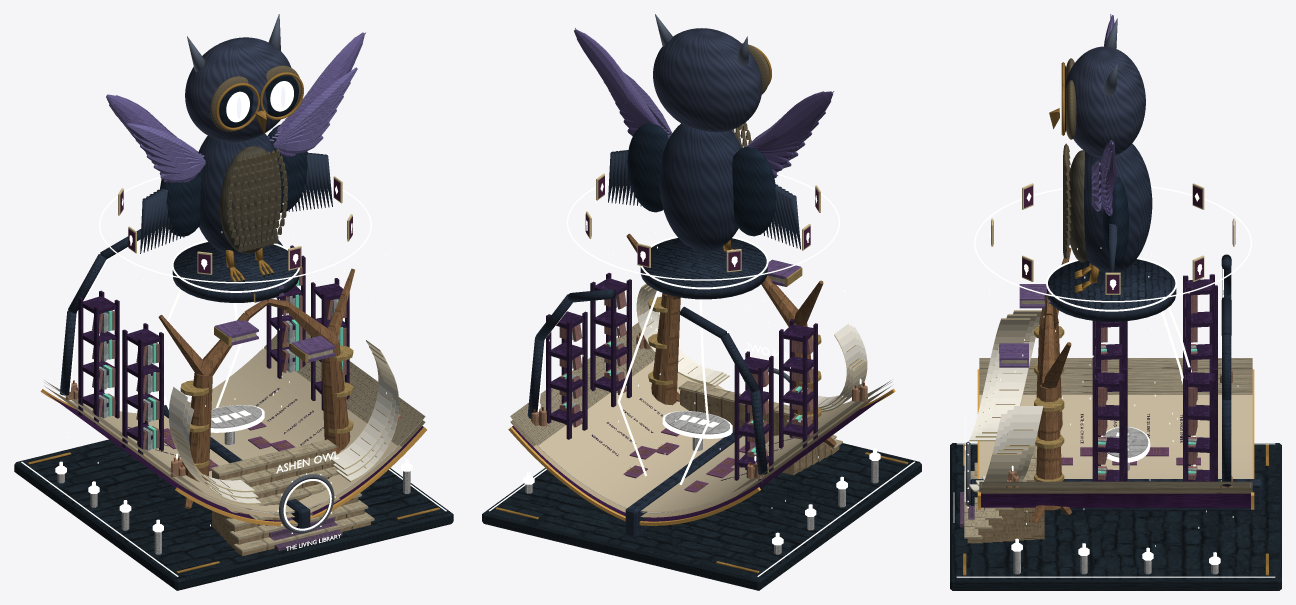
3 views of the same model, side by side, from view 1: azimuth 30°, elevation 25°; view 2: azimuth 150°, elevation 25°; view 3: azimuth 270°, elevation 25° (orthographic).
Visible parts, largest first — view 1: Static, OwlBodyShape, OwlHeadShape, OwlWingLeftShape, OwlWingRightShape, FateCardsShape, OwlEyesShape, FateHaloShape; view 2: Static, OwlBodyShape, OwlHeadShape, OwlWingLeftShape, OwlWingRightShape, FateCardsShape, FateHaloShape; view 3: Static, OwlBodyShape, OwlHeadShape, FateCardsShape, OwlWingRightShape, FateHaloShape.
Boxes of the visible parts, left/top/right/bottom form: Static: left=14, top=229, right=453, bottom=590; OwlBodyShape: left=106, top=32, right=365, bottom=283; OwlHeadShape: left=185, top=14, right=303, bottom=142; OwlWingLeftShape: left=140, top=150, right=202, bottom=253; OwlWingRightShape: left=267, top=125, right=332, bottom=212; FateCardsShape: left=118, top=176, right=352, bottom=274; OwlEyesShape: left=226, top=81, right=293, bottom=122; FateHaloShape: left=99, top=176, right=371, bottom=283; Static: left=482, top=233, right=921, bottom=590; OwlBodyShape: left=574, top=28, right=834, bottom=252; OwlHeadShape: left=653, top=14, right=771, bottom=132; OwlWingLeftShape: left=732, top=147, right=800, bottom=249; OwlWingRightShape: left=608, top=123, right=668, bottom=212; FateCardsShape: left=585, top=173, right=820, bottom=272; FateHaloShape: left=566, top=173, right=839, bottom=280; Static: left=950, top=248, right=1281, bottom=590; OwlBodyShape: left=1063, top=14, right=1152, bottom=293; OwlHeadShape: left=1049, top=18, right=1145, bottom=157; FateCardsShape: left=989, top=183, right=1236, bottom=294; OwlWingRightShape: left=1103, top=176, right=1128, bottom=295; FateHaloShape: left=974, top=186, right=1251, bottom=302.
Size of the model in its own units: 11.25 by 18.26 by 11.4.
4 materials, 3 textured.
